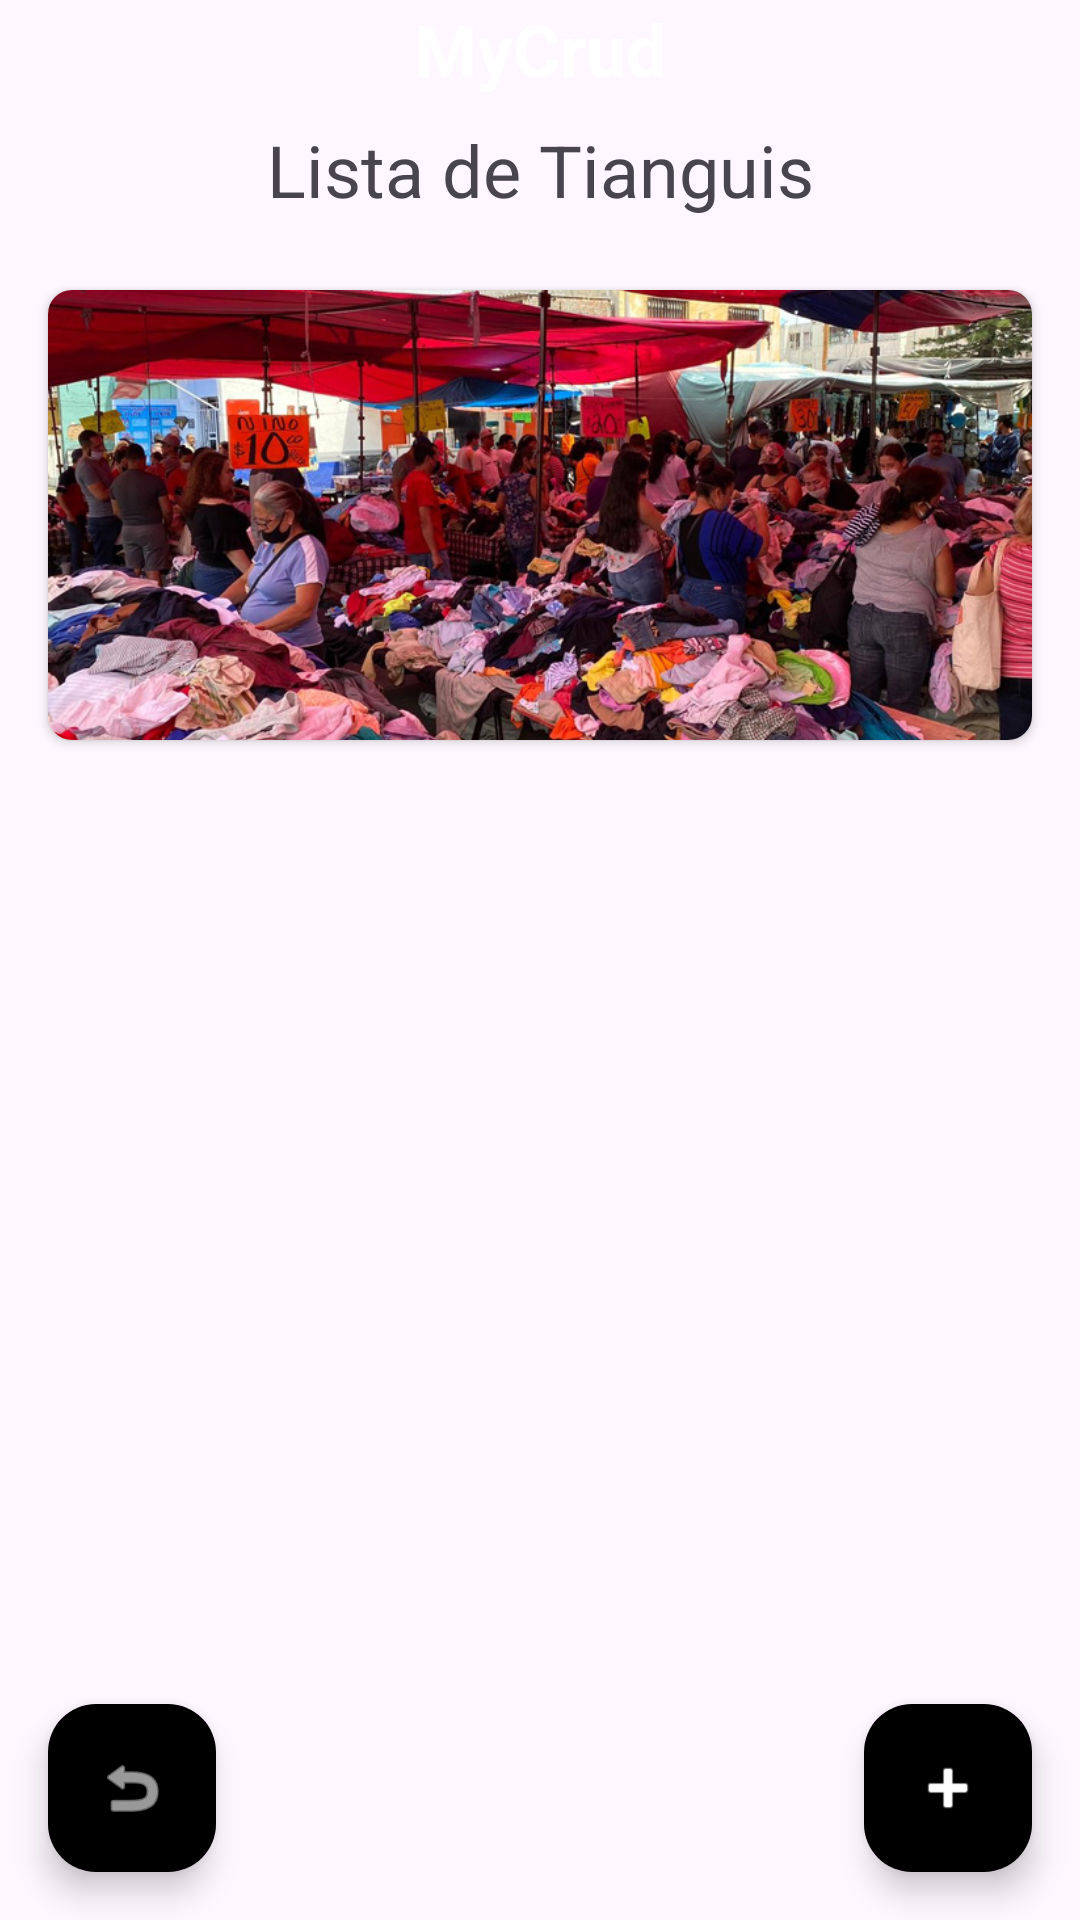

Named icons in this screenshot (1080px x 1920px) and their bounding boxes, bbox(x1, y1, x2, y2):
add: bbox(864, 1704, 1032, 1872)
revert: bbox(48, 1704, 216, 1872)
